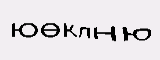К: (62, 23, 77, 38)
Л: (78, 26, 91, 39)
Н: (93, 25, 118, 42)
Ю: (122, 25, 151, 43), (10, 22, 38, 39)
Ө: (40, 22, 61, 38)
